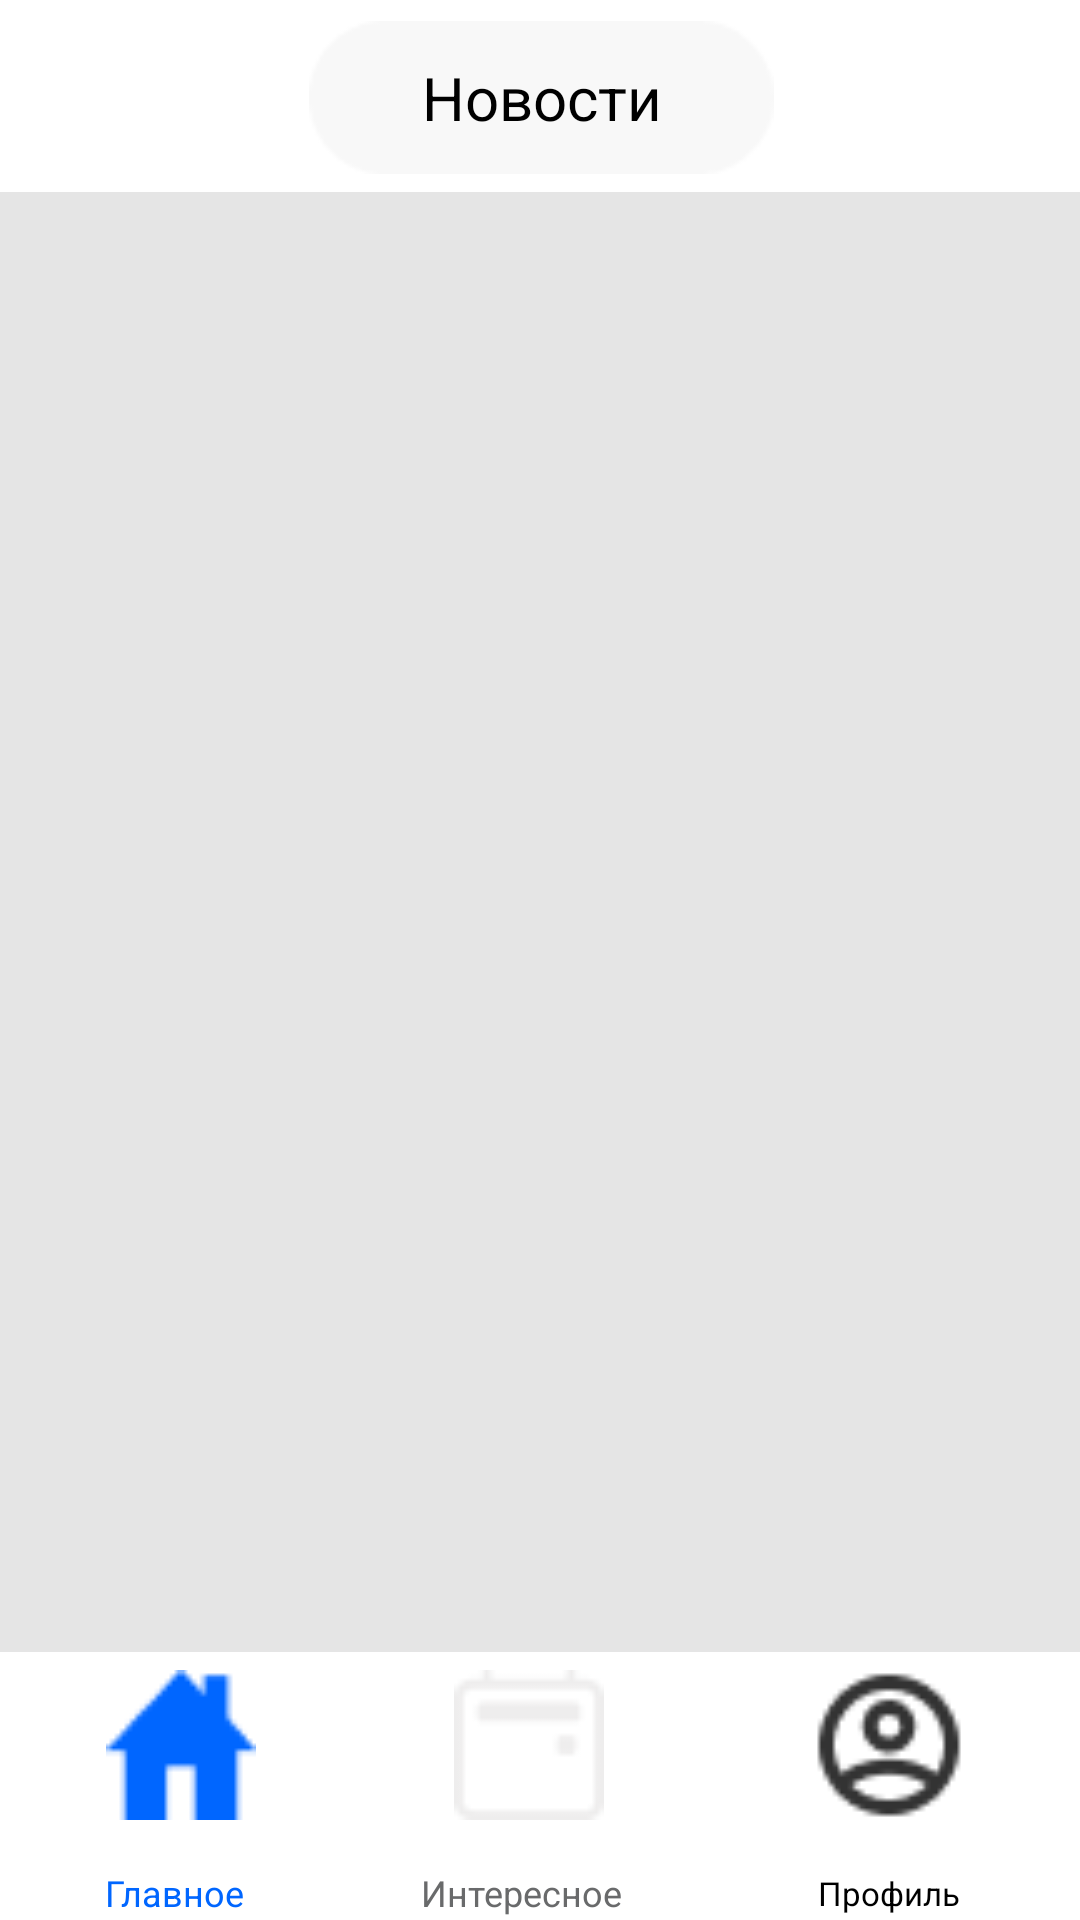

Icon click points for this 1080*1920 phone screenshot, format [x,y]:
home: [181,1745]
profile: [889,1745]
